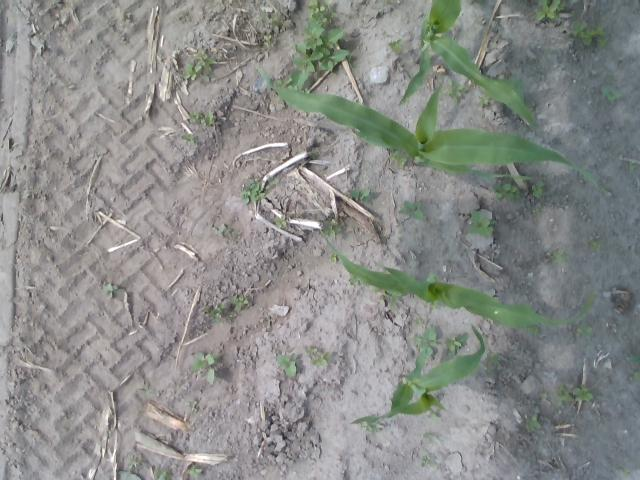Maize: (256, 62, 609, 196), (318, 232, 596, 330), (398, 0, 538, 137), (347, 325, 485, 424)
Weeds: (290, 0, 348, 89), (568, 19, 608, 48), (182, 50, 215, 84), (555, 382, 595, 407), (190, 352, 218, 386), (466, 210, 496, 238), (412, 326, 438, 358), (240, 178, 266, 205), (535, 0, 566, 22), (397, 200, 427, 222), (276, 76, 310, 95), (491, 180, 521, 201), (443, 78, 466, 104), (277, 351, 299, 377), (201, 301, 225, 324), (307, 345, 331, 367), (348, 186, 371, 204), (322, 218, 342, 238), (600, 84, 622, 102), (259, 9, 280, 26), (546, 249, 566, 266), (388, 150, 406, 168), (210, 223, 233, 237), (420, 449, 436, 469), (526, 412, 542, 432), (362, 420, 384, 434), (444, 335, 462, 352), (575, 322, 593, 339), (231, 295, 249, 311), (116, 469, 142, 480), (348, 272, 368, 286), (530, 180, 546, 197), (502, 76, 522, 89), (388, 38, 404, 54), (274, 214, 288, 229), (102, 282, 116, 296), (188, 464, 202, 478), (524, 324, 540, 336), (155, 468, 171, 480), (202, 110, 215, 124), (185, 400, 199, 413), (588, 239, 602, 251), (188, 110, 202, 122), (478, 94, 492, 106), (180, 133, 195, 144), (390, 292, 399, 310), (126, 458, 138, 470), (486, 353, 499, 364), (428, 300, 439, 312), (266, 175, 280, 184), (618, 467, 628, 477), (329, 252, 338, 262), (630, 352, 640, 361), (119, 12, 131, 19), (426, 412, 436, 420), (425, 432, 435, 440), (485, 364, 494, 372), (534, 208, 543, 216), (371, 285, 381, 292), (414, 318, 422, 326), (628, 162, 636, 170), (633, 370, 640, 379), (381, 292, 388, 300), (538, 390, 547, 396), (264, 34, 272, 40), (310, 151, 318, 157)
